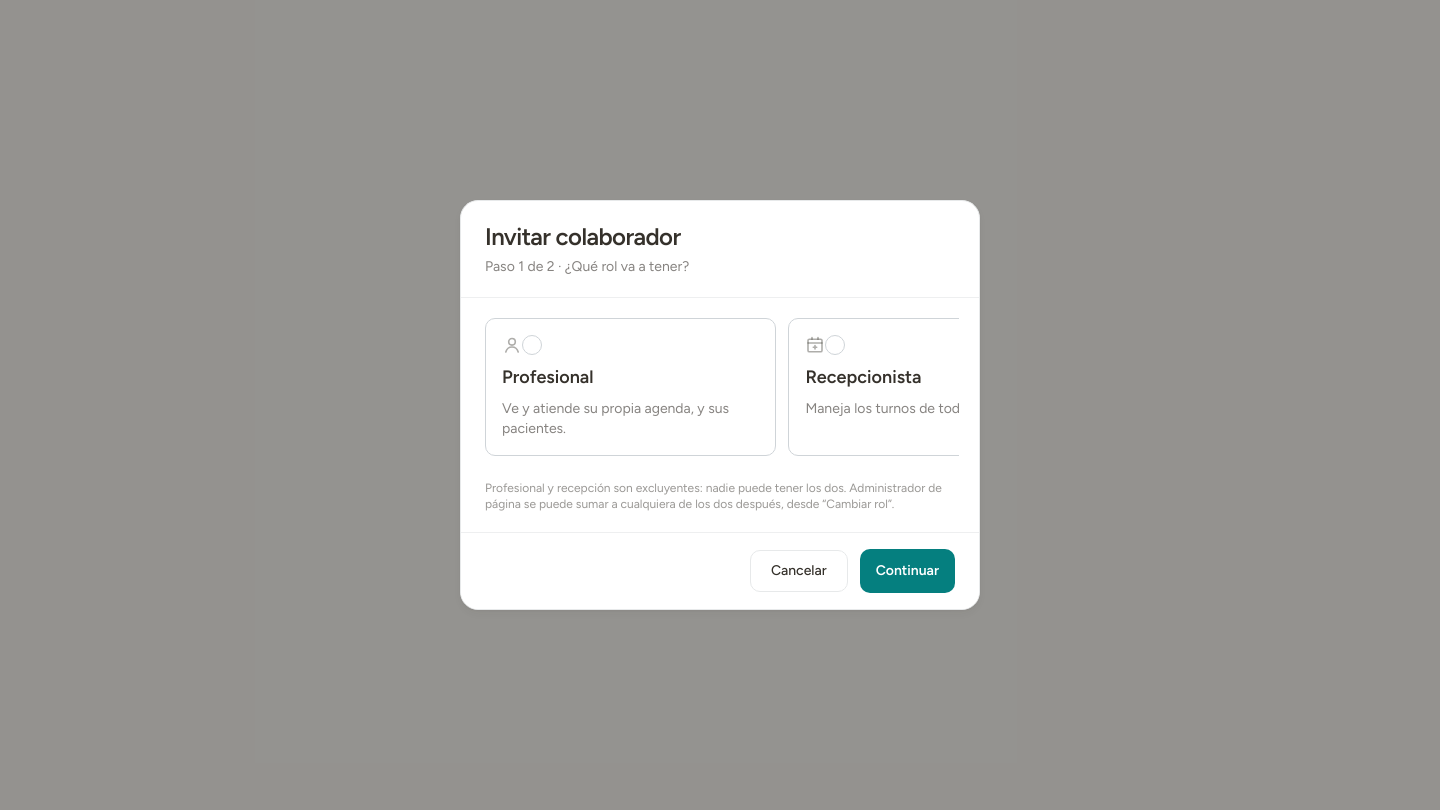
it: InvitarColaboradorModal (Fase 3.2.4) › muestra el aviso que devuelve el backend
Step 1. Click the button "Profesional Ve y atiende su propia agenda, y sus pacientes." → coordinates (548, 377), box x1=485 y1=318 x2=776 y2=456
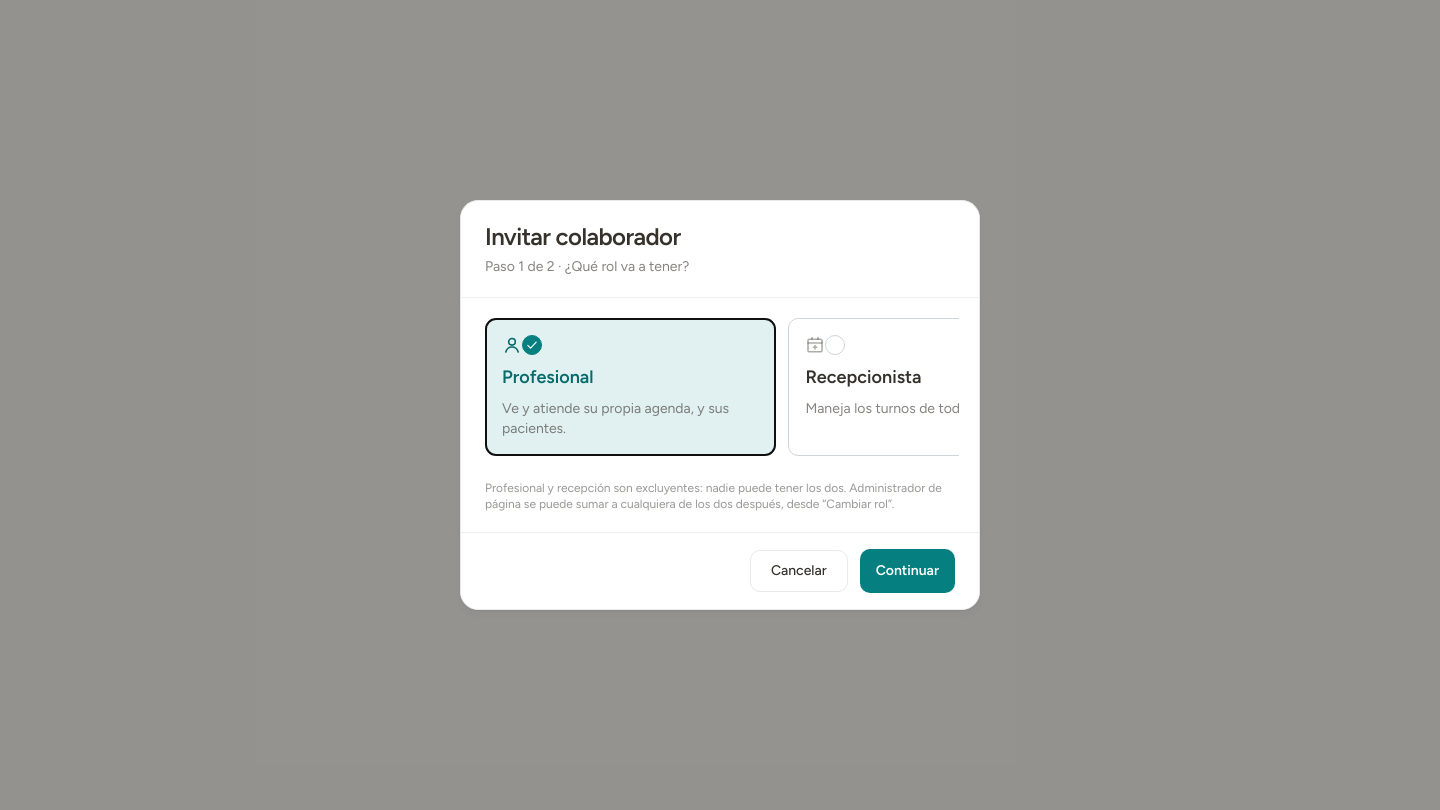
Step 2. Click the button "Continuar" → coordinates (907, 571), box x1=860 y1=549 x2=955 y2=593
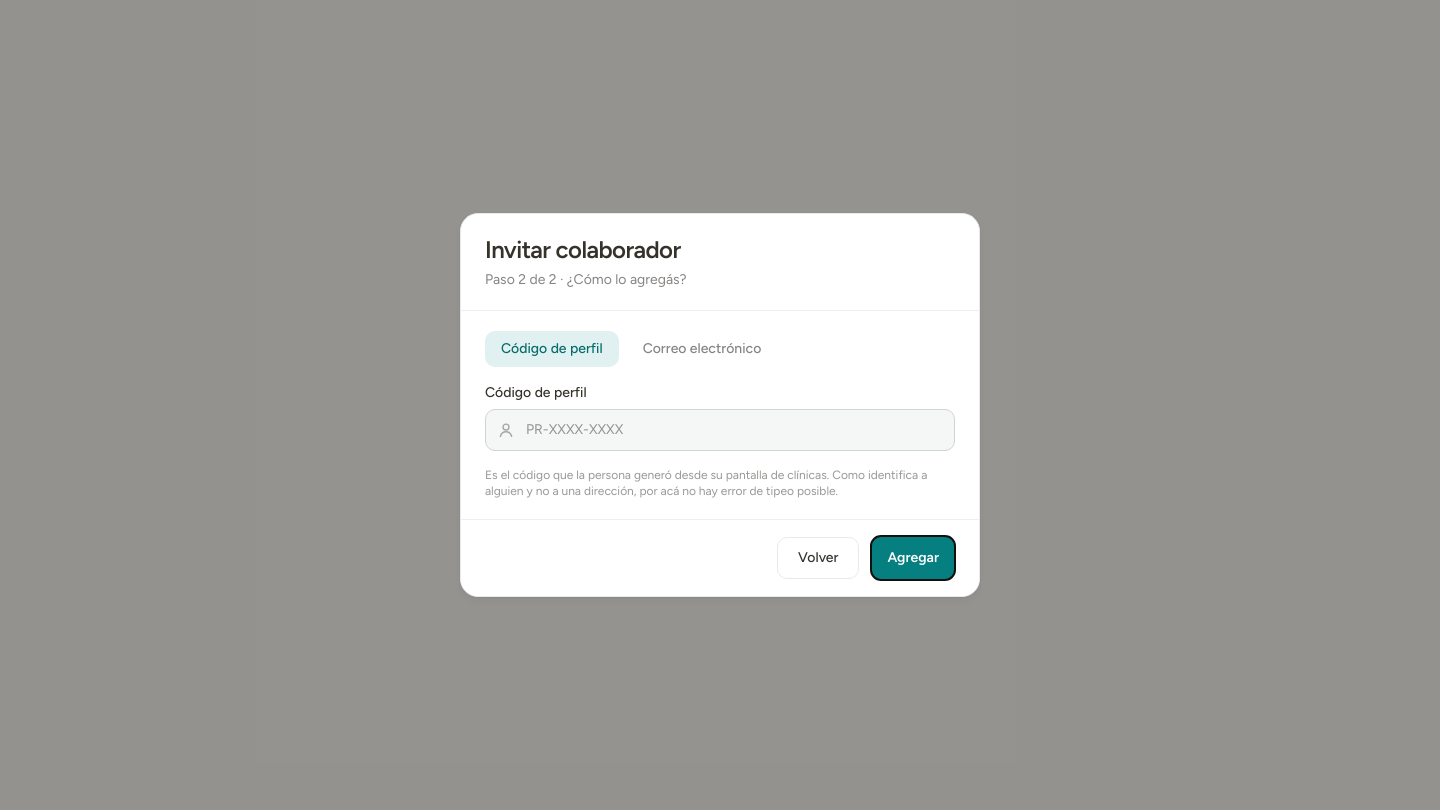
Step 3. Type "PR-ABCD-EFGH" into the field labelled "Código de perfil" → coordinates (720, 430), box x1=485 y1=409 x2=955 y2=451
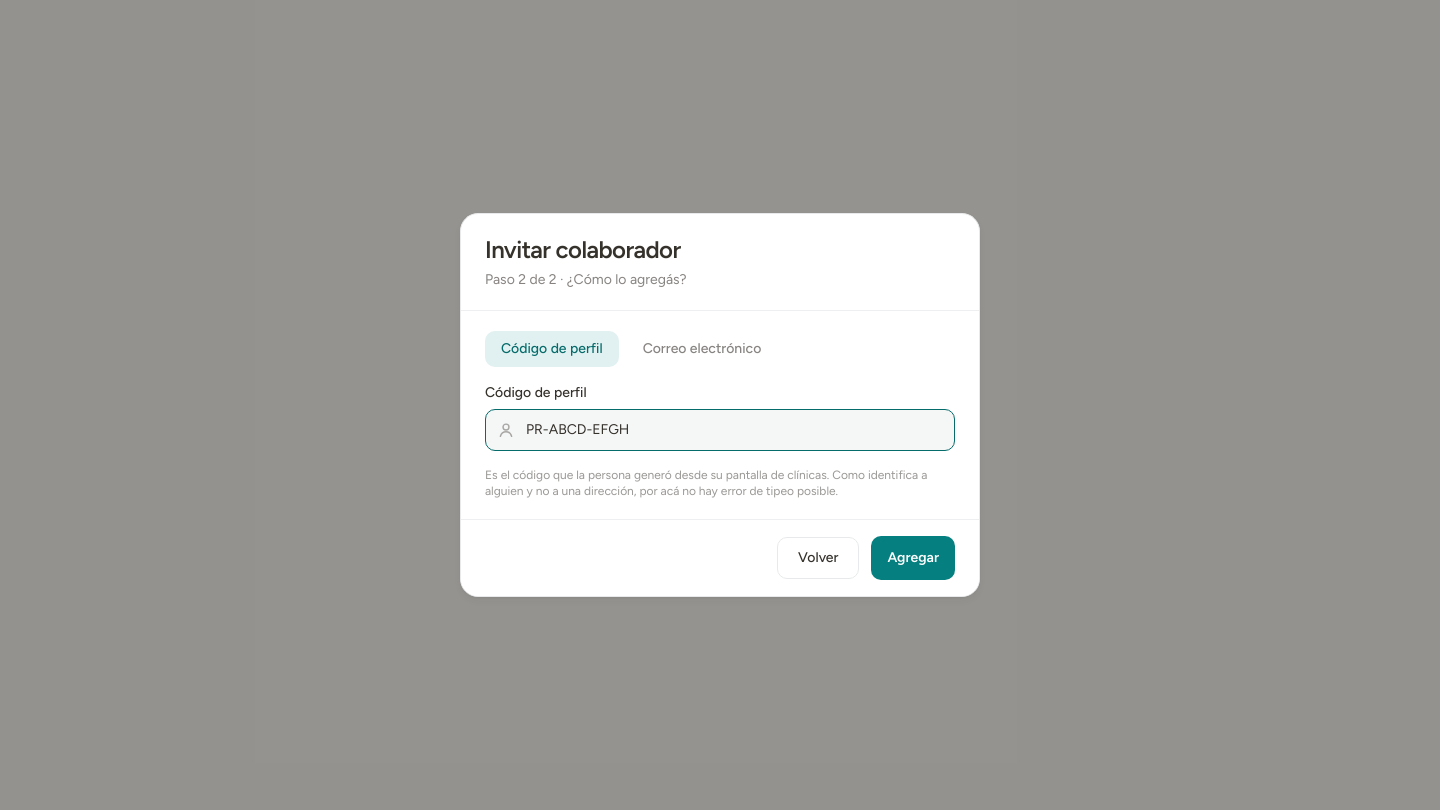
Step 4. Click the button "Agregar" → coordinates (913, 558), box x1=871 y1=536 x2=955 y2=580
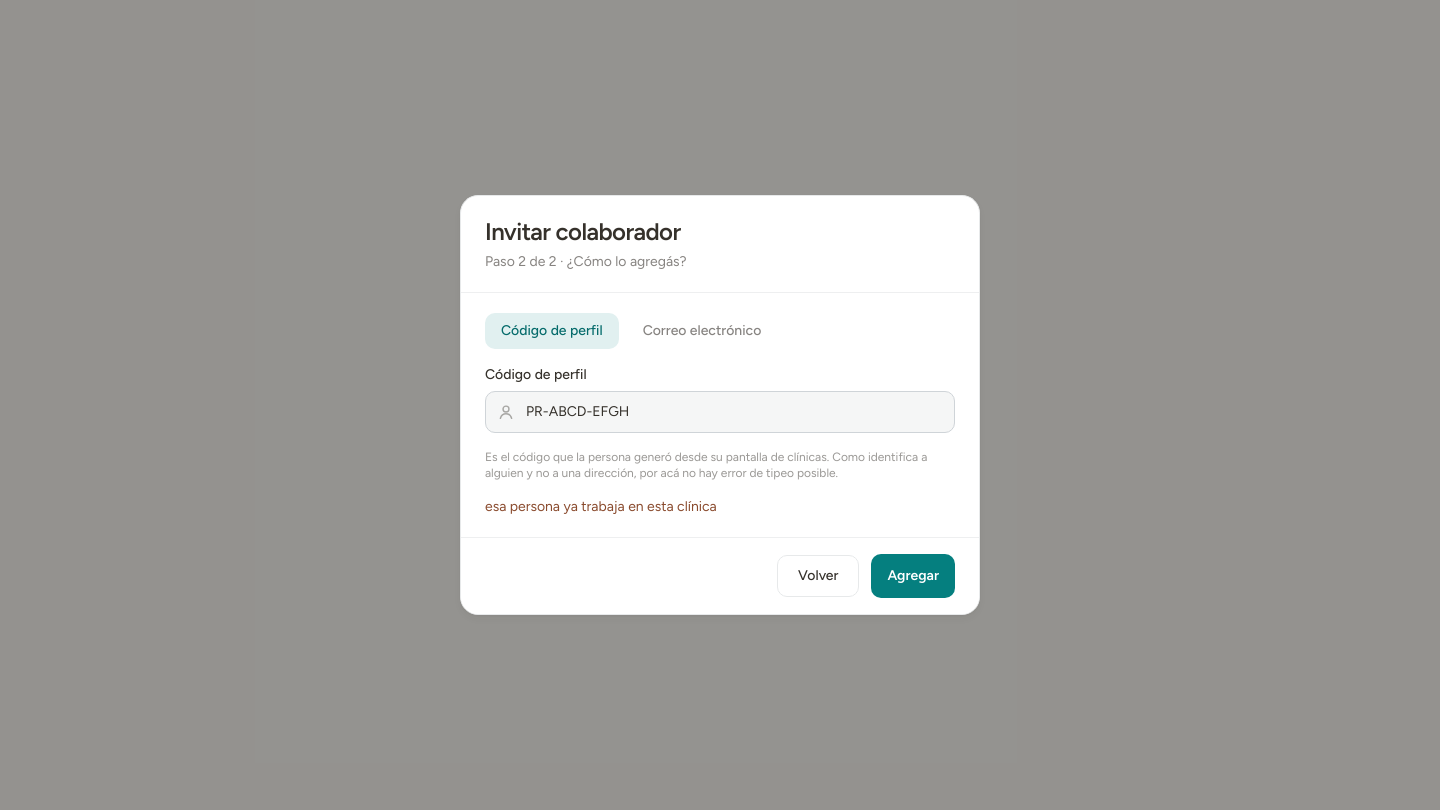
Now the text "esa persona ya trabaja en esta clínica" is shown, box x1=485 y1=498 x2=717 y2=515
